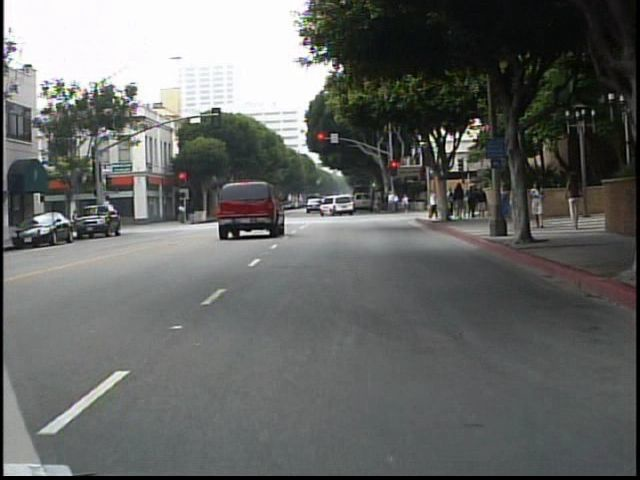person: (562, 168, 587, 232), (529, 179, 546, 231), (509, 177, 524, 231), (451, 177, 467, 223), (426, 188, 438, 221)
